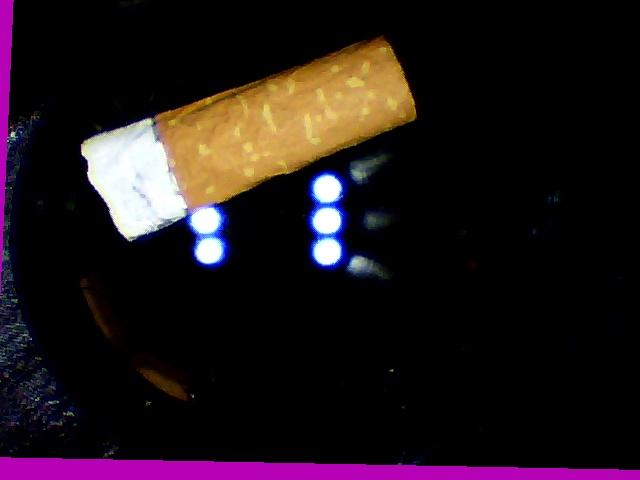megot: (62, 20, 425, 260)
